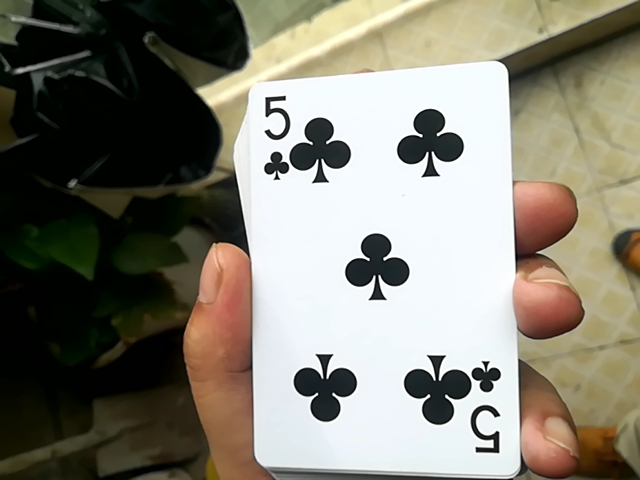mh 5: (219, 63, 533, 473)
